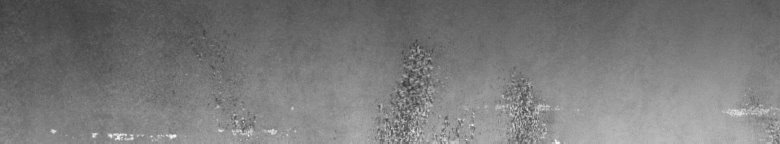hc: (370, 38, 560, 136)
